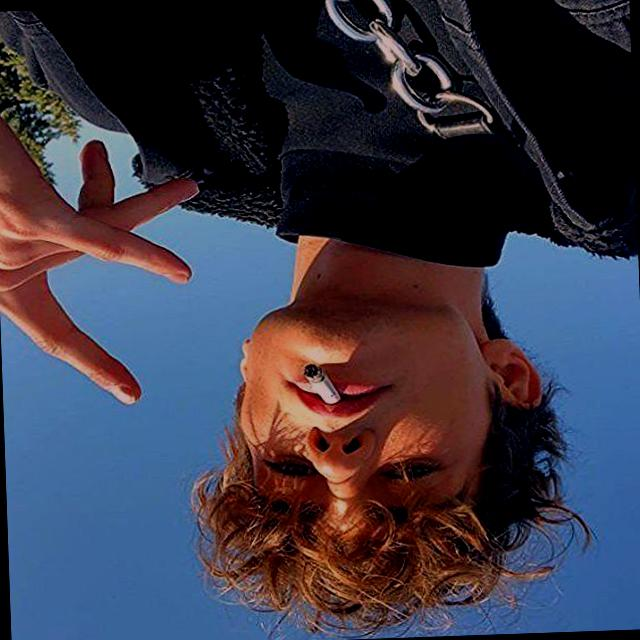cigarette: (285, 352, 364, 414)
